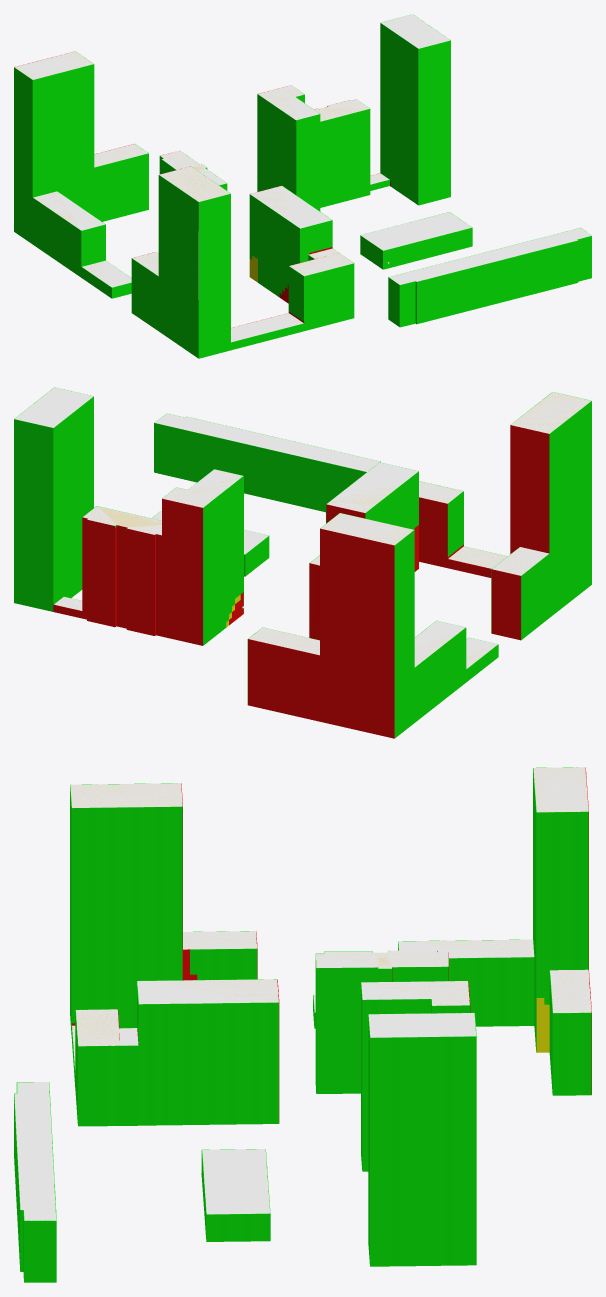
Rendered from Insalation_2.gltf.
3 renders of one model, top to bottom at view 1: azimuth 30°, elevation 25°; view 2: azimuth 150°, elevation 25°; view 3: azimuth 270°, elevation 25°, orthographic. The views are drawn at different scales.
Size of the model in its own units: 258 by 105 by 229.
